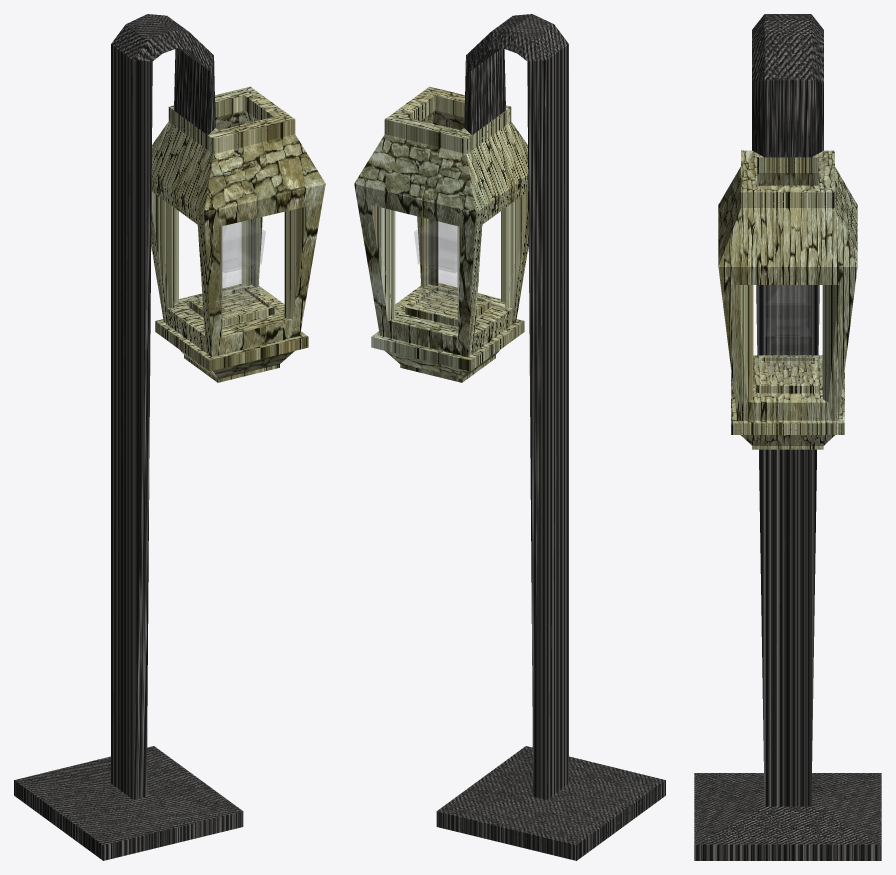
Rendered from lanthanum.fbx.
3 renders of one model, left to right at view 1: azimuth 30°, elevation 25°; view 2: azimuth 150°, elevation 25°; view 3: azimuth 270°, elevation 25°, orthographic. The views are drawn at different scales.
Visible parts, largest first — view 1: Box001, Box002; view 2: Box001, Box002; view 3: Box001, Box002.
Boxes of the visible parts, bbox=[...] form: Box001: bbox=[14, 14, 325, 860]; Box002: bbox=[222, 220, 265, 307]; Box001: bbox=[354, 14, 665, 860]; Box002: bbox=[414, 220, 457, 307]; Box001: bbox=[694, 14, 881, 860]; Box002: bbox=[765, 285, 810, 376].
Bounding box in the file's own units: 76.84 × 50.86 × 247.
